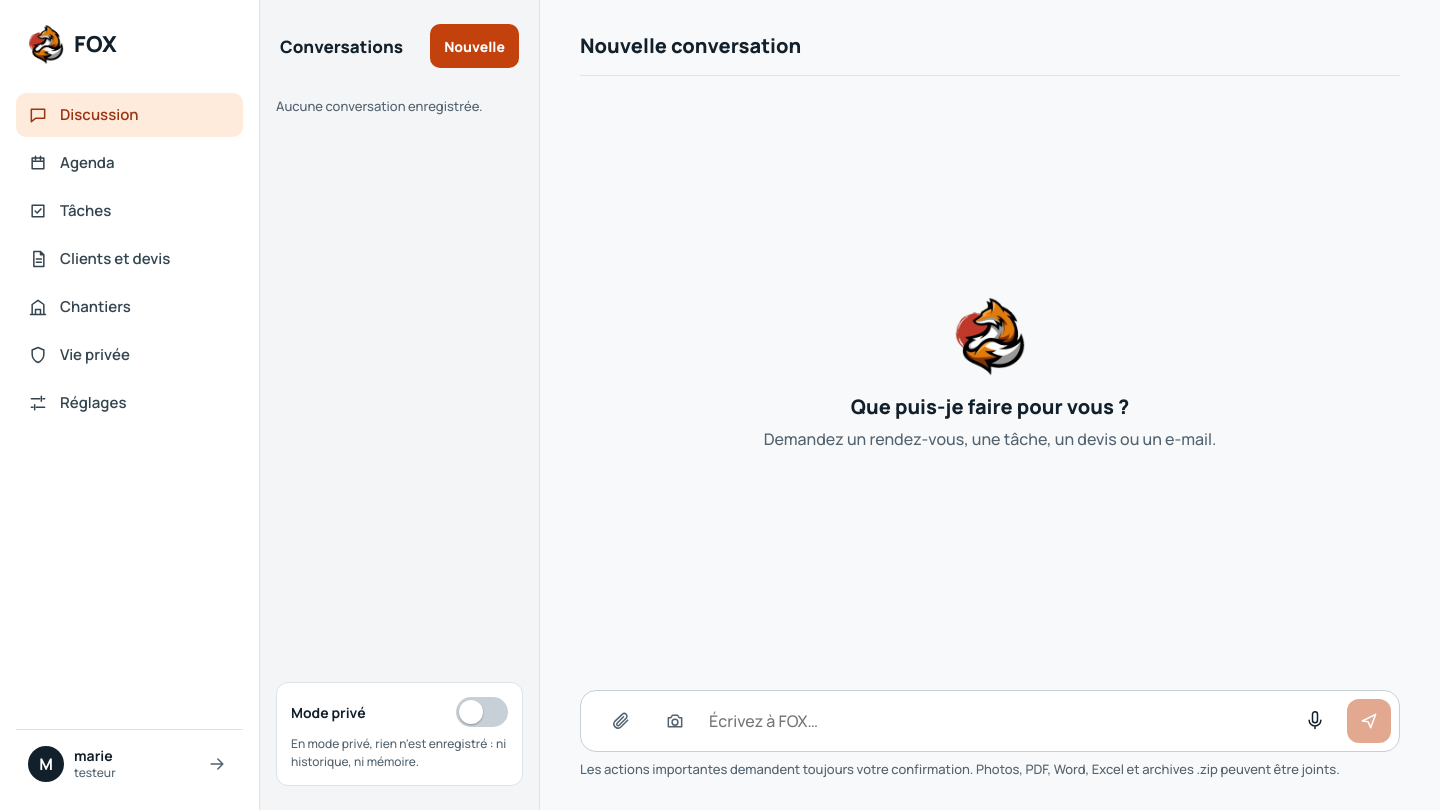
Dictée vocale › met le texte dicté dans le champ sans l'envoyer
The image size is (1440, 810).
Click the button named "Dicter un message" at {"x": 1315, "y": 721}, box x1=1293 y1=699 x2=1337 y2=743
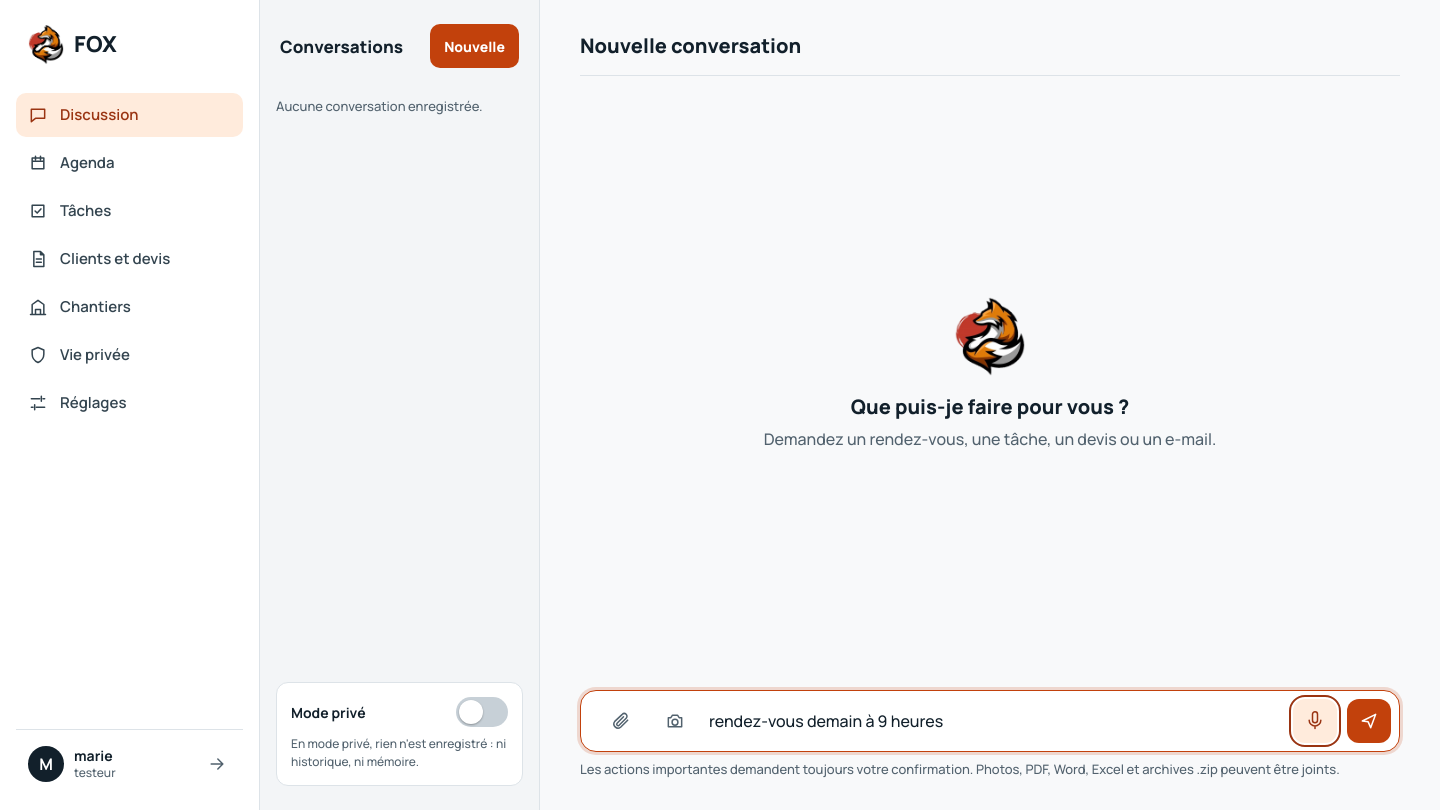
Expected: the field labelled "Message" holds "rendez-vous demain à 9 heures", x1=707 y1=699 x2=1283 y2=743
